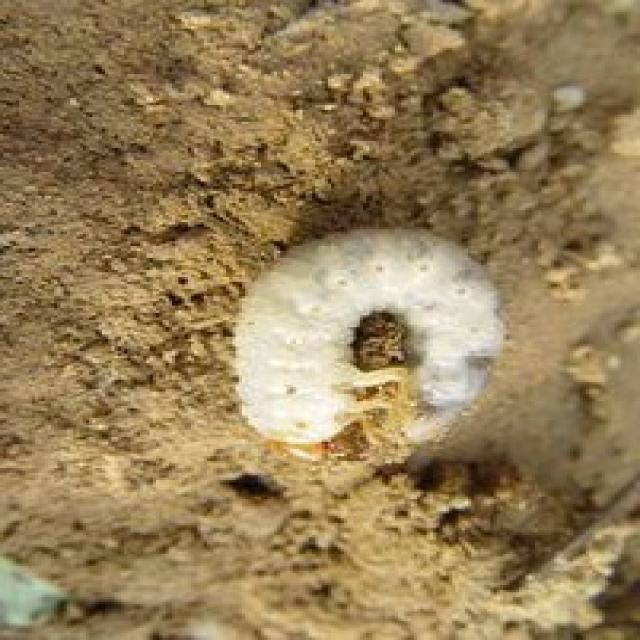grub: (233, 217, 520, 468)
